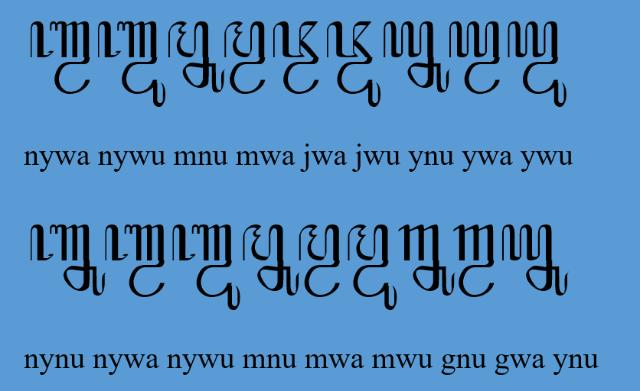gnu: (397, 225, 455, 298)
gw: (453, 224, 495, 298)
jw: (272, 20, 320, 96)
jwu: (326, 21, 380, 108)
mnu: (242, 223, 300, 297), (168, 21, 225, 93)
mw: (298, 224, 340, 299), (224, 21, 266, 95)
mwu: (347, 224, 398, 312)
nynu: (30, 223, 106, 297)
nyw: (30, 20, 90, 96), (105, 224, 165, 299)
nywu: (97, 20, 165, 108), (172, 223, 240, 311)
ynu: (384, 21, 451, 94), (502, 225, 568, 297)
yw: (450, 20, 500, 96)
ywu: (508, 21, 566, 108)
